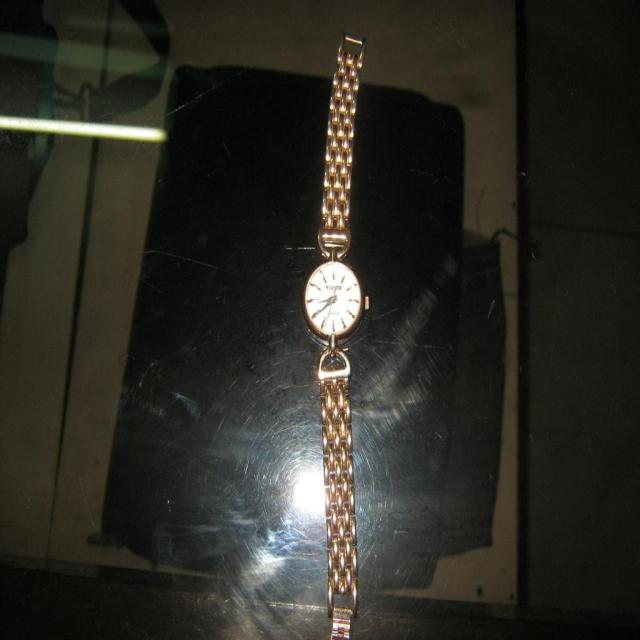Wrist watch: (305, 33, 369, 639)
